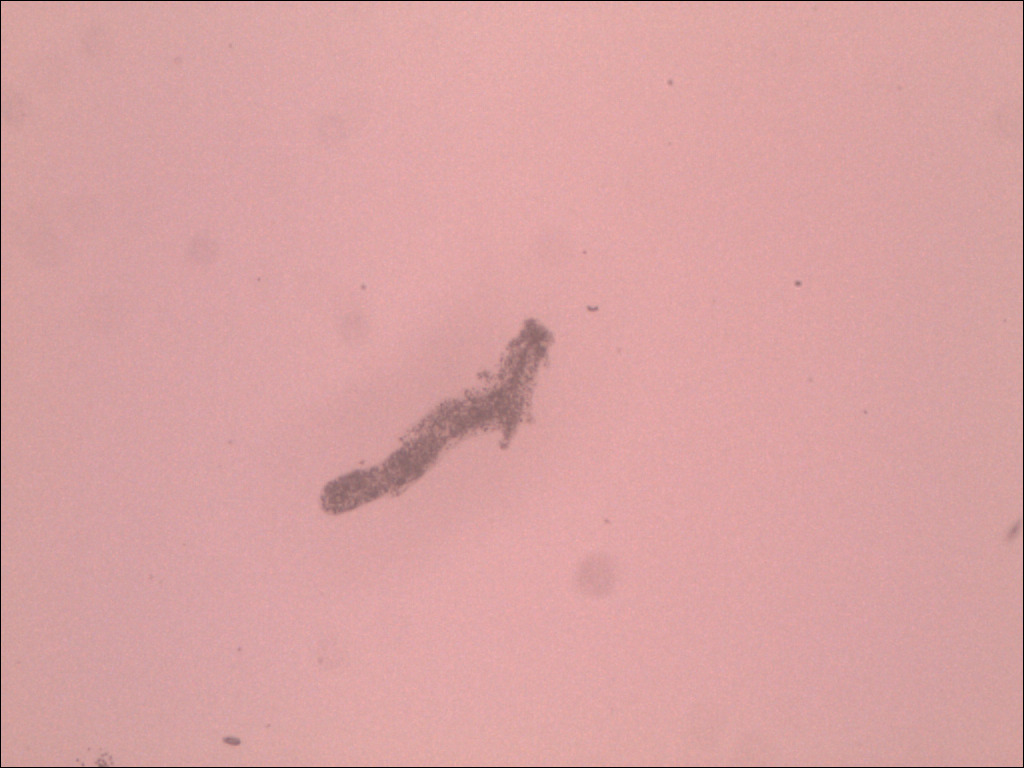amoeba: (313, 313, 573, 526)
